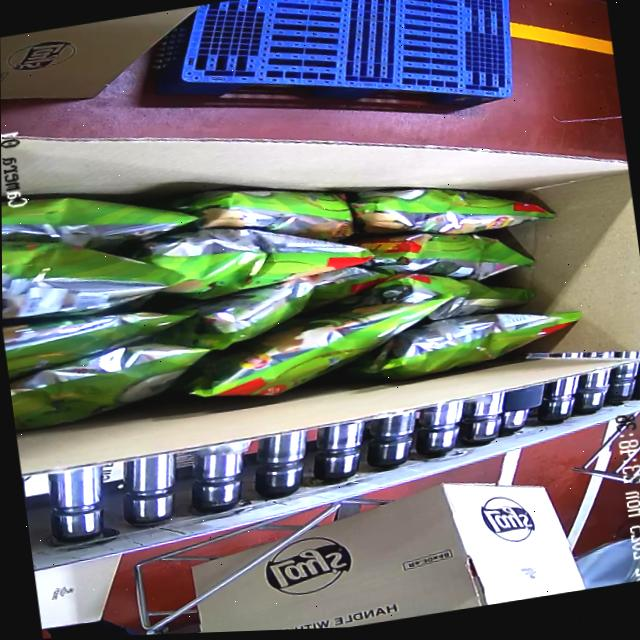YOGURT_HERB: (1, 116, 580, 453)
